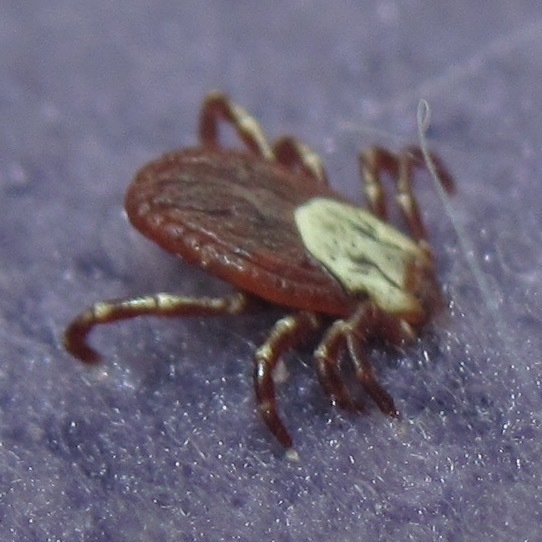garrapata: (52, 85, 467, 466)
